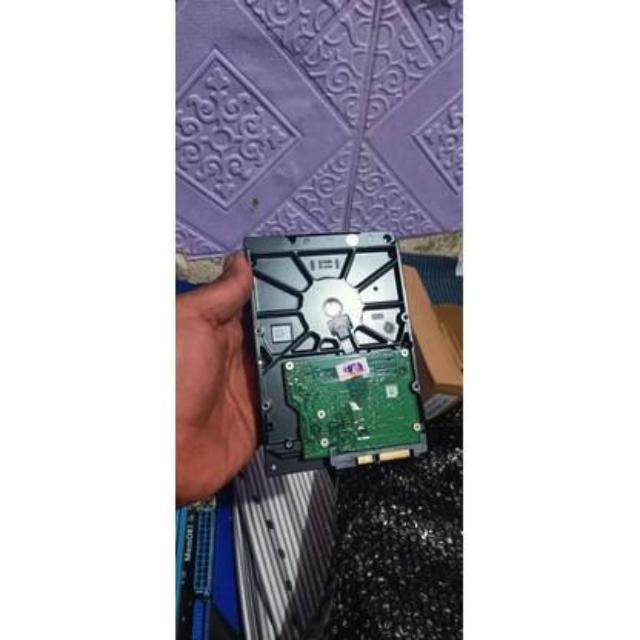DISK: (236, 226, 436, 472)
